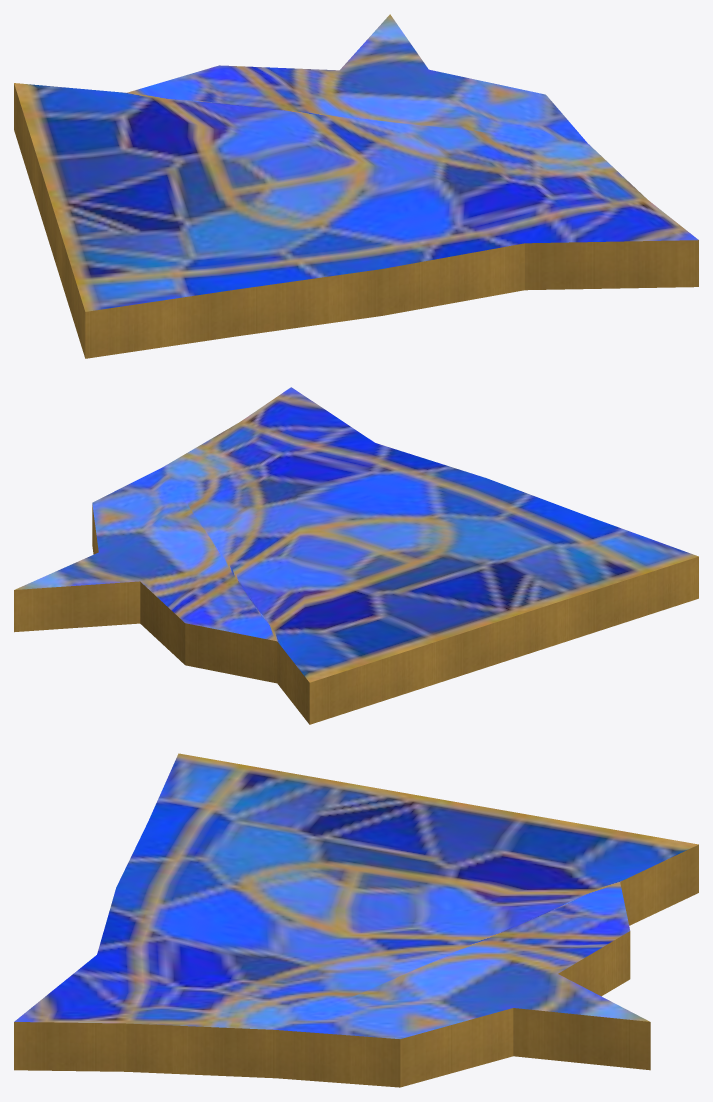
Rendered from lb_chunk_5_1.glb.
The picture shows the model from 3 angles, top to bottom: view 1: azimuth 30°, elevation 25°; view 2: azimuth 150°, elevation 25°; view 3: azimuth 270°, elevation 25°; orthographic projection. The views are drawn at different scales.
Parts seen in each view (by area): view 1: lb_chunk_5_1; view 2: lb_chunk_5_1; view 3: lb_chunk_5_1.
Boxes of the visible parts, x1=… form: lb_chunk_5_1: x1=14, y1=14, x2=698, y2=358; lb_chunk_5_1: x1=14, y1=387, x2=698, y2=724; lb_chunk_5_1: x1=14, y1=753, x2=698, y2=1087.
Size of the model in its own units: 4.56 by 0.36 by 4.62.
2 materials, 2 textured.
